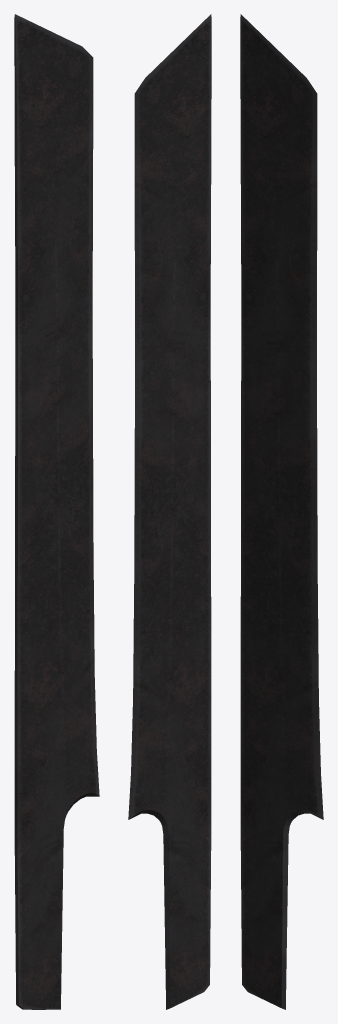
Rendered from wm_isengard_1h_sword_a02_blade.fbx.
The picture shows the model from 3 angles, left to right: view 1: azimuth 30°, elevation 25°; view 2: azimuth 210°, elevation 25°; view 3: azimuth 330°, elevation 25°; orthographic projection. The views are drawn at different scales.
Visible parts, largest first — view 1: wm_isengard_1h_sword_a02_blade; view 2: wm_isengard_1h_sword_a02_blade; view 3: wm_isengard_1h_sword_a02_blade.
Boxes of the visible parts, <box> form: wm_isengard_1h_sword_a02_blade: <box>14,14,99,1009</box>; wm_isengard_1h_sword_a02_blade: <box>128,14,211,1009</box>; wm_isengard_1h_sword_a02_blade: <box>240,14,323,1009</box>.
Bounding box in the file's own units: 0.0918 × 0.0102 × 1.04.
1 material, 1 textured.
